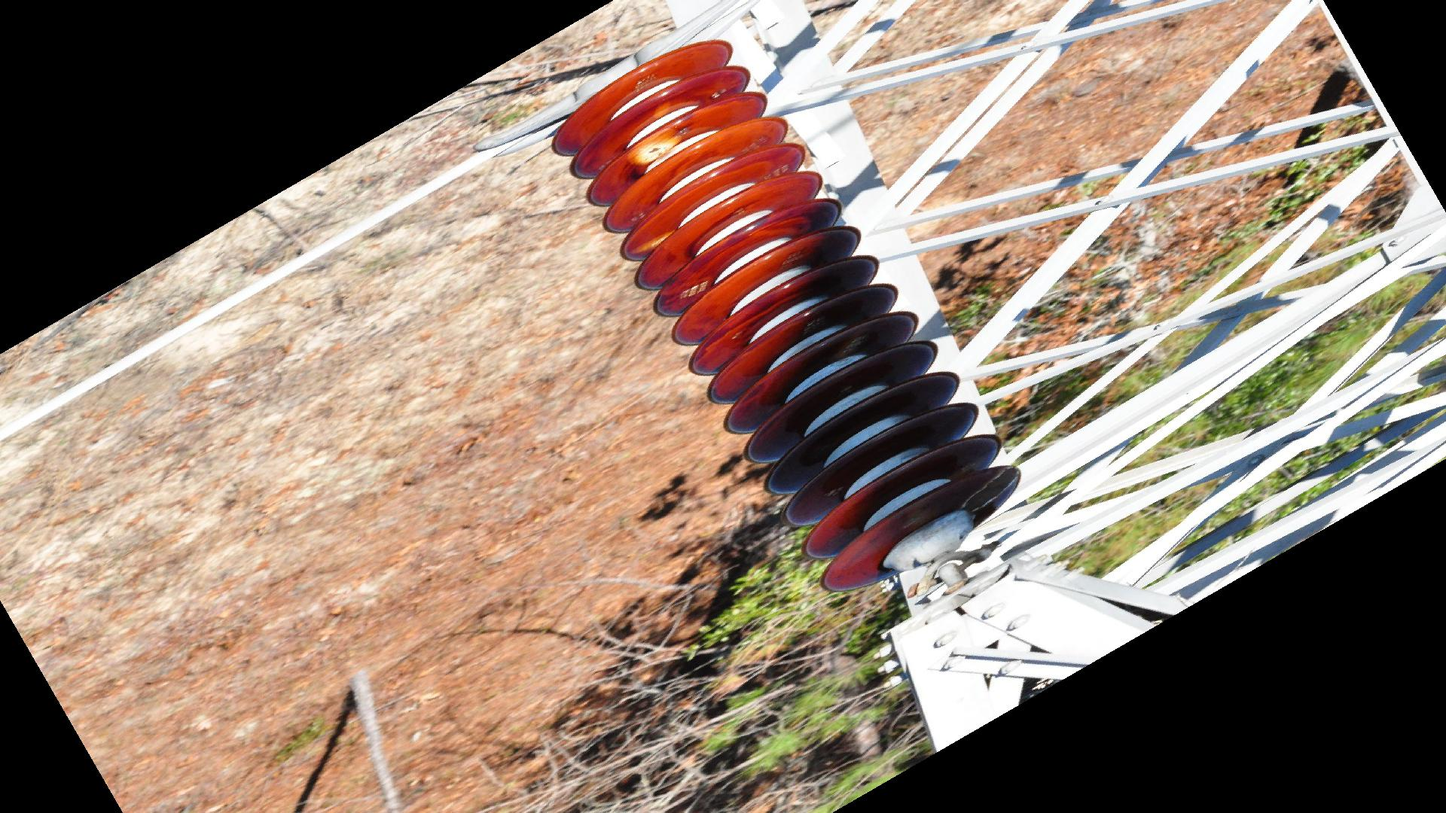insulator: (538, 35, 1030, 596)
insulator_flashover: (958, 464, 1020, 513), (627, 127, 684, 166), (627, 228, 675, 255)
